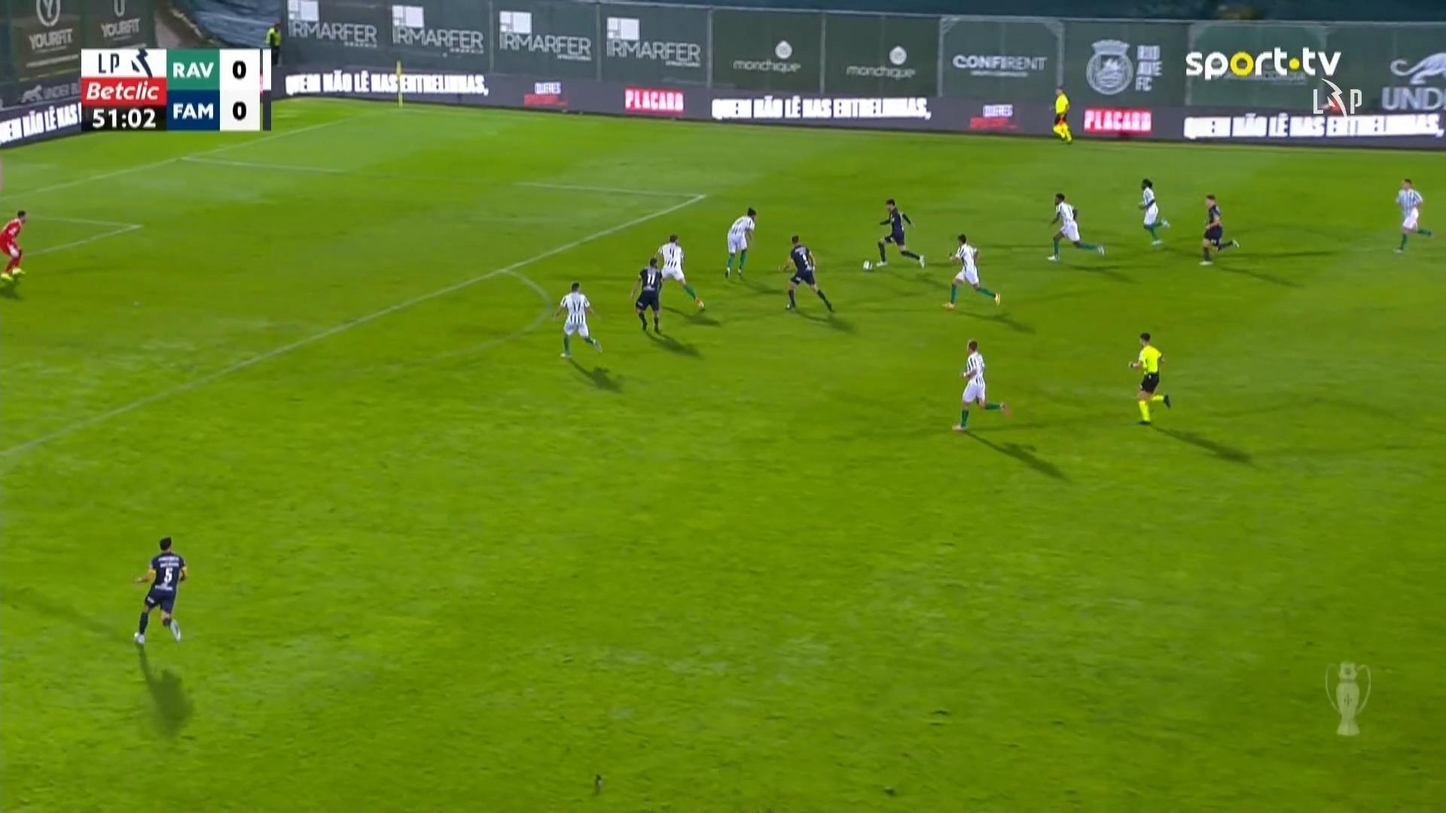goalkeeper: (0, 209, 27, 279)
player: (133, 535, 188, 644), (951, 339, 1010, 431), (778, 233, 834, 313), (943, 233, 1001, 309), (1045, 192, 1104, 261), (654, 233, 705, 312), (551, 281, 602, 358), (874, 198, 925, 268), (1198, 193, 1240, 266), (1393, 177, 1432, 253), (629, 256, 664, 333), (723, 206, 757, 279), (1138, 178, 1169, 245)
referee: (1127, 331, 1170, 424), (1051, 84, 1072, 144)
